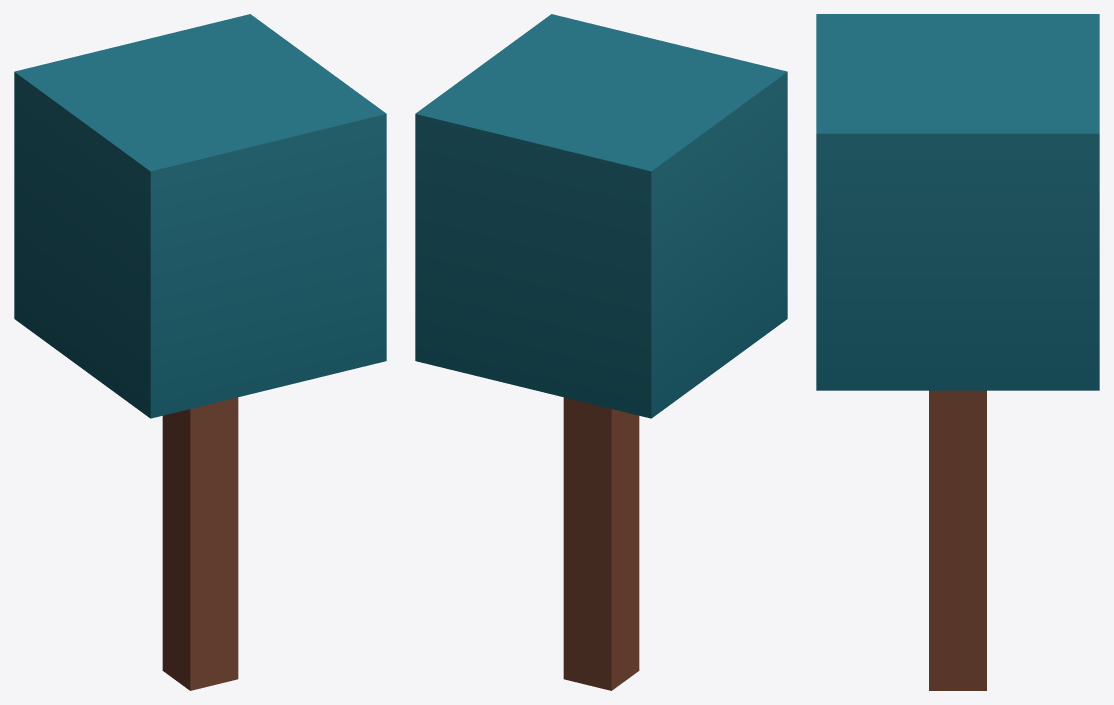
The model's file is Tree_47_gradient_blue_vc.fbx.
3 views of the same model, side by side, from view 1: azimuth 30°, elevation 25°; view 2: azimuth 150°, elevation 25°; view 3: azimuth 270°, elevation 25° (orthographic). The views are drawn at different scales.
Visible parts, largest first — view 1: Tree_47_gradient_blue_vc; view 2: Tree_47_gradient_blue_vc; view 3: Tree_47_gradient_blue_vc.
Boxes of the visible parts, box(x1,y1,x2,y2) form: Tree_47_gradient_blue_vc: box(14, 14, 386, 690); Tree_47_gradient_blue_vc: box(415, 14, 787, 690); Tree_47_gradient_blue_vc: box(816, 14, 1099, 690).
Bounding box in the file's own units: 72.7 × 171 × 72.7.
